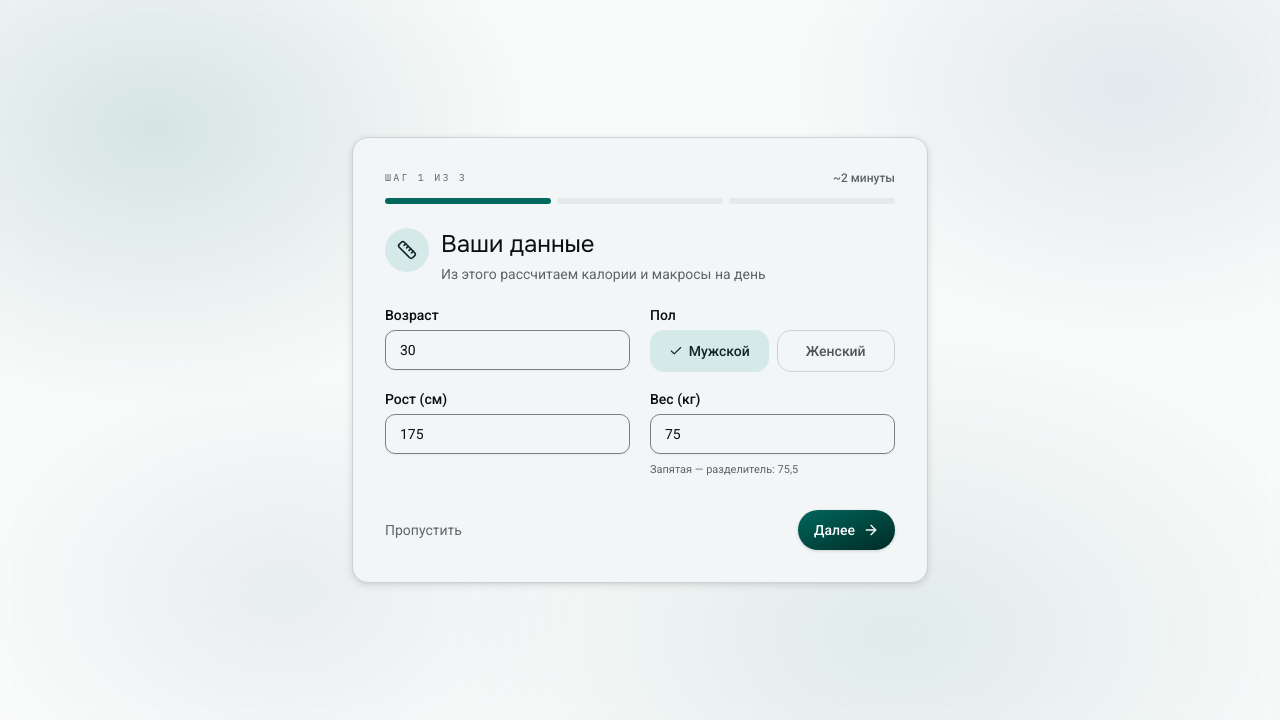
Test: OnboardingWizard › валидирует шаг инвентаря: без инвентаря не пускает дальше
The image size is (1280, 720).
In the field labelled "Возраст": (508, 350) [385,330,630,370], type "32"
In the field labelled "Рост (см)": (508, 434) [385,414,630,454], type "180"
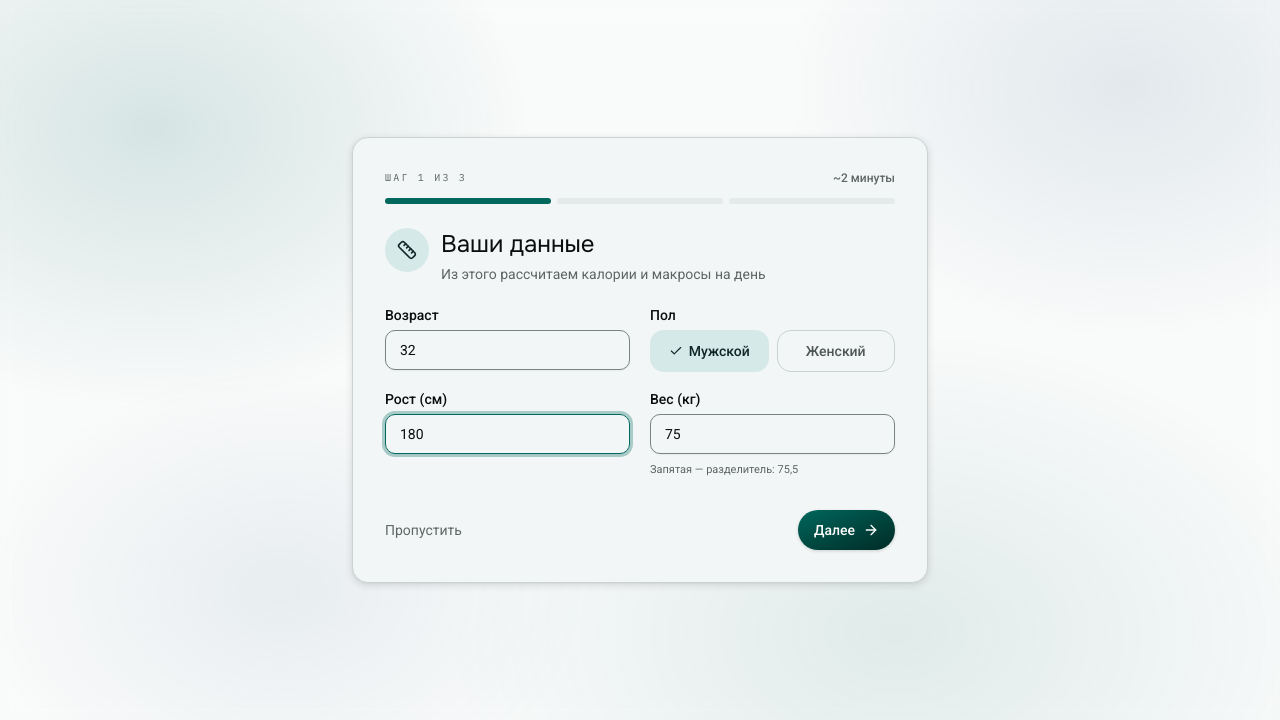
In the field labelled "Вес (кг)": (772, 434) [650,414,895,454], type "85"
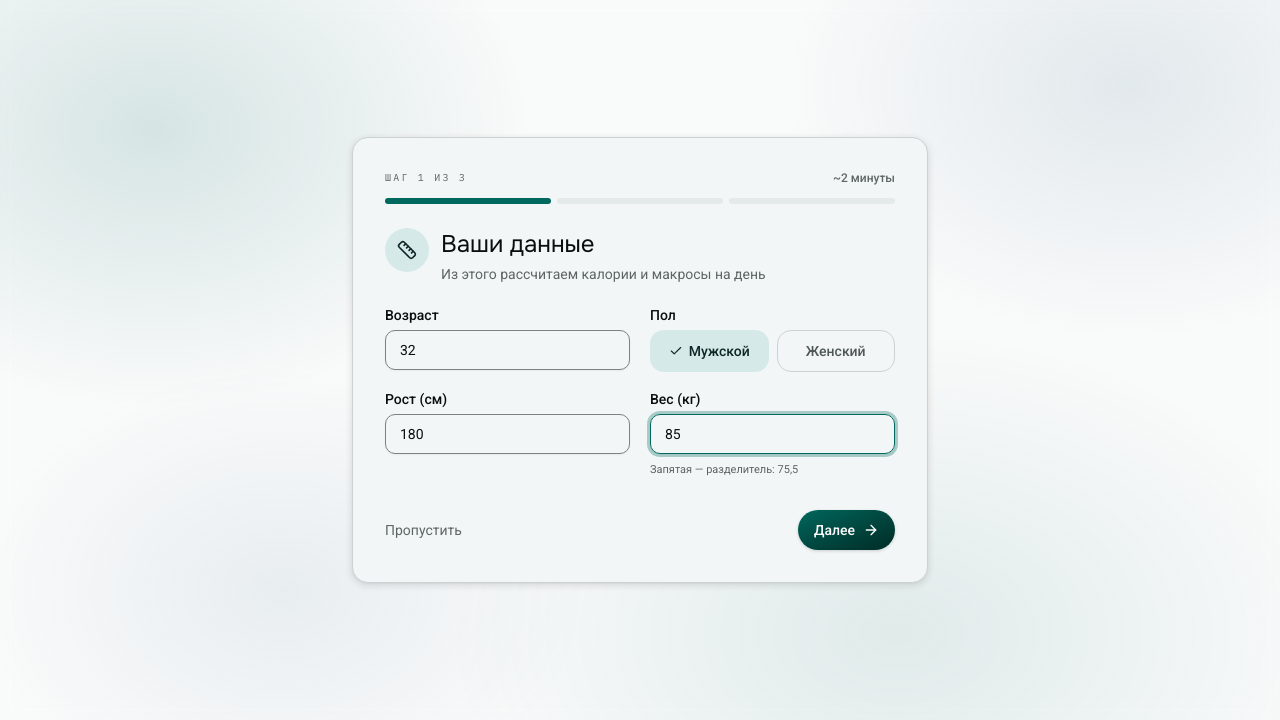
Click the button "Далее": (846, 530) [798,510,895,550]
(page scrolled)
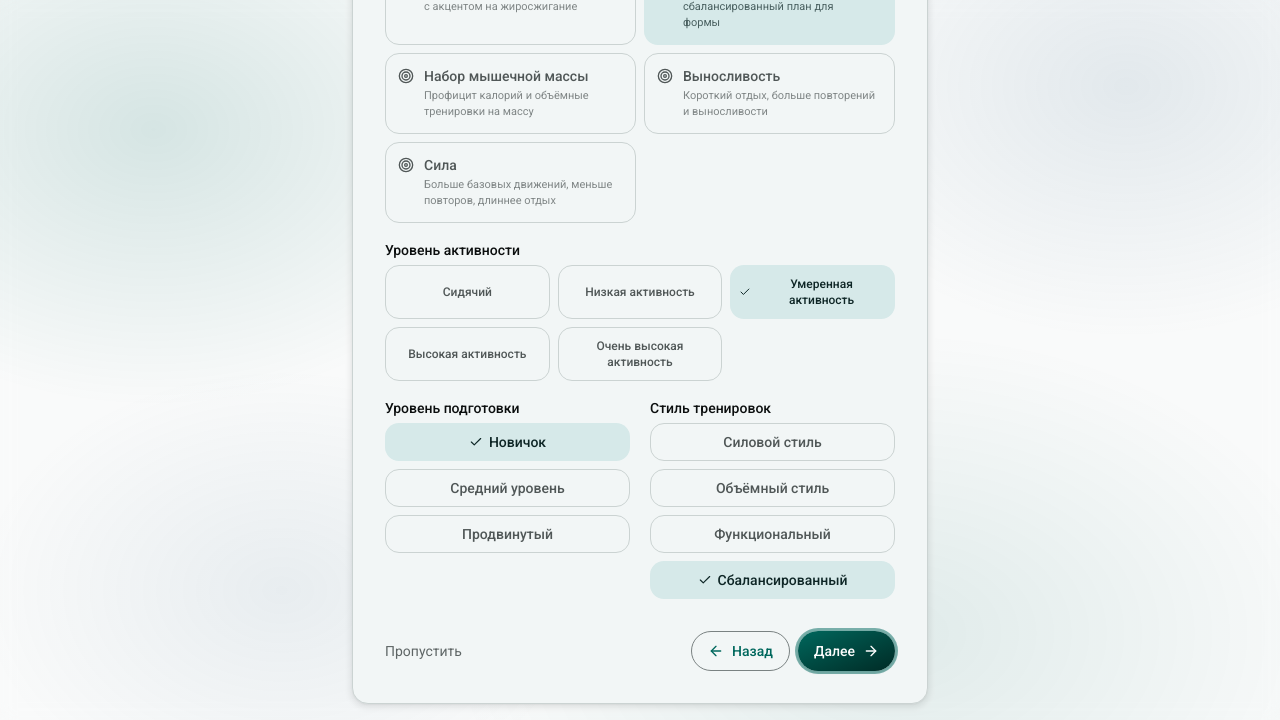
Click the button "Далее": (846, 651) [798,631,895,671]
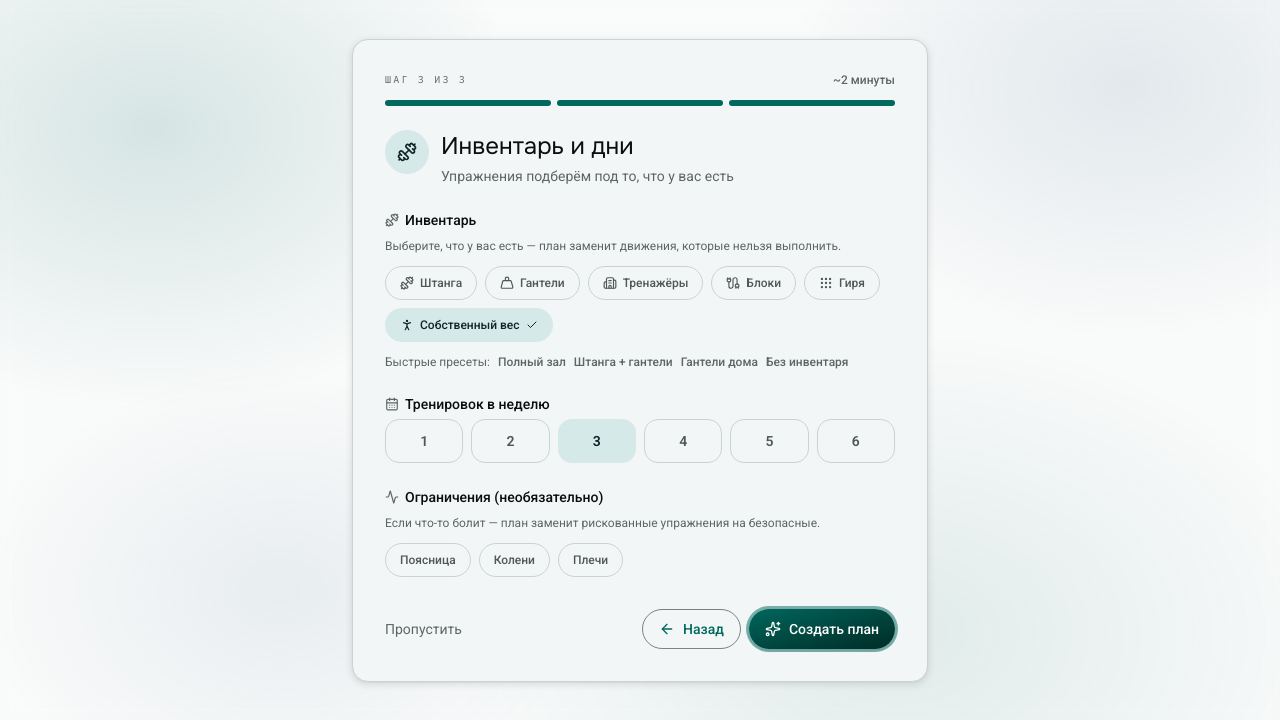
Click the button "Собственный вес": (469, 324) [385,308,553,342]
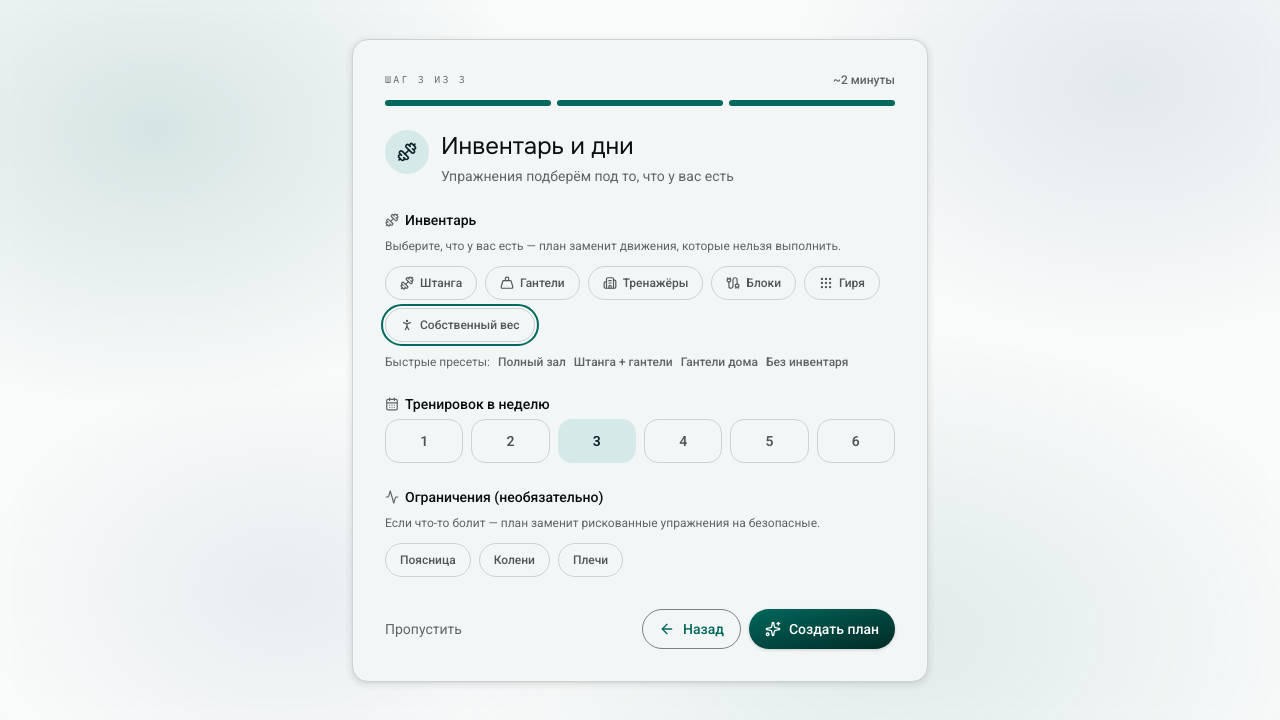
Click the button "Создать план": (822, 628) [749,608,895,648]
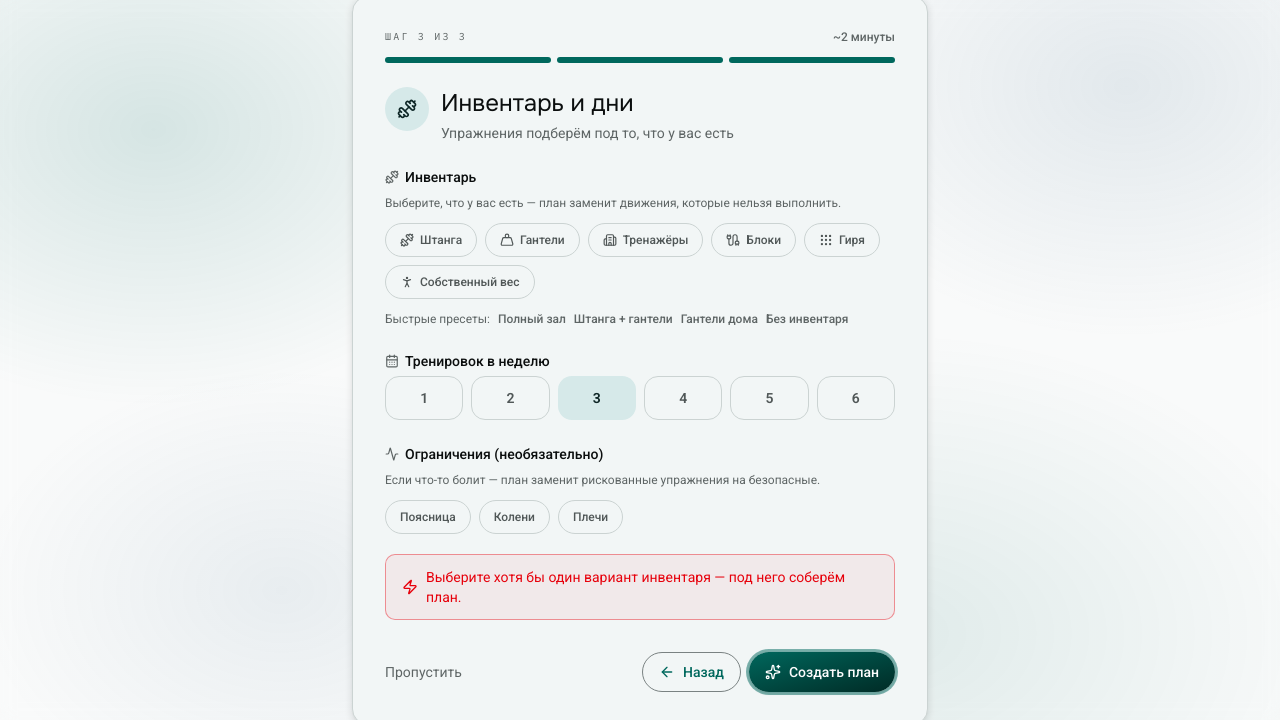
expect the text "Выберите хотя бы один вариант инвентаря" is shown: met, box [426,568,845,604]
